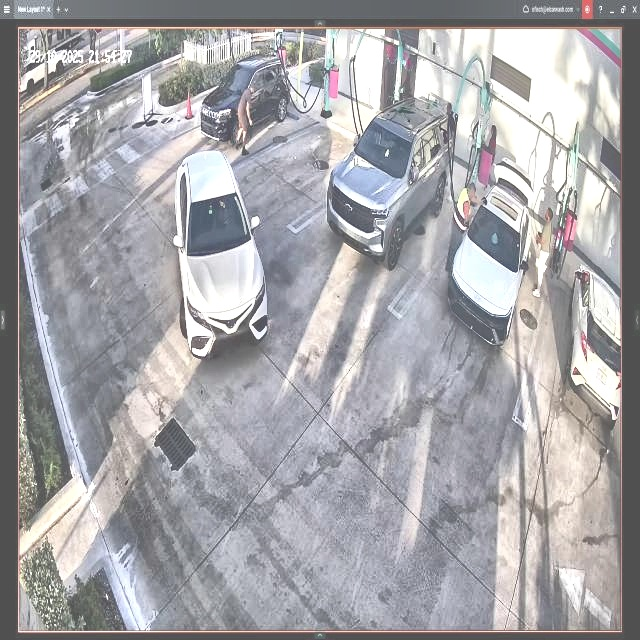Car: (175, 148, 270, 361), (328, 98, 449, 262), (452, 165, 533, 345), (201, 62, 293, 139)
